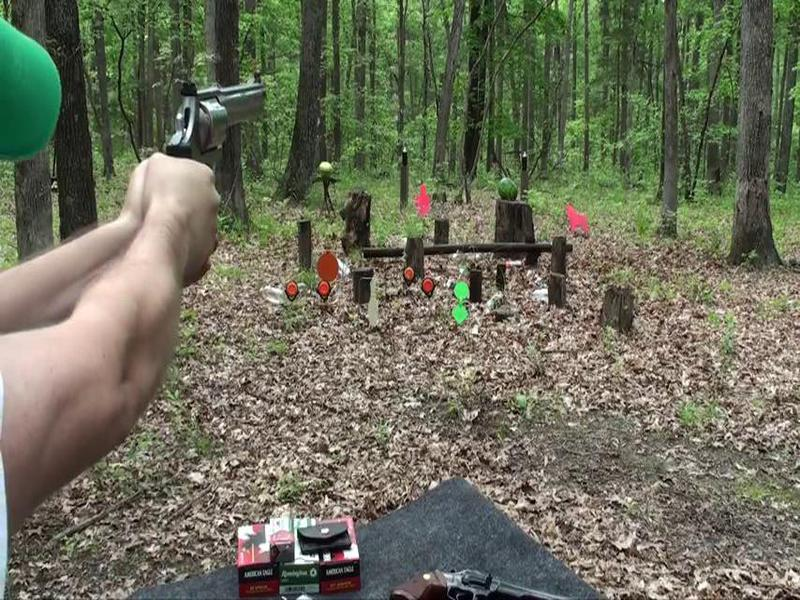Revolver: (137, 59, 277, 189)
